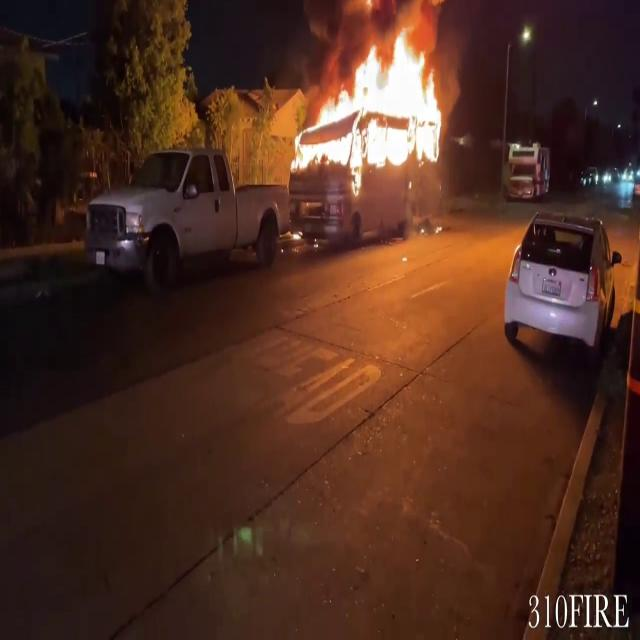Fire: (282, 15, 456, 229)
